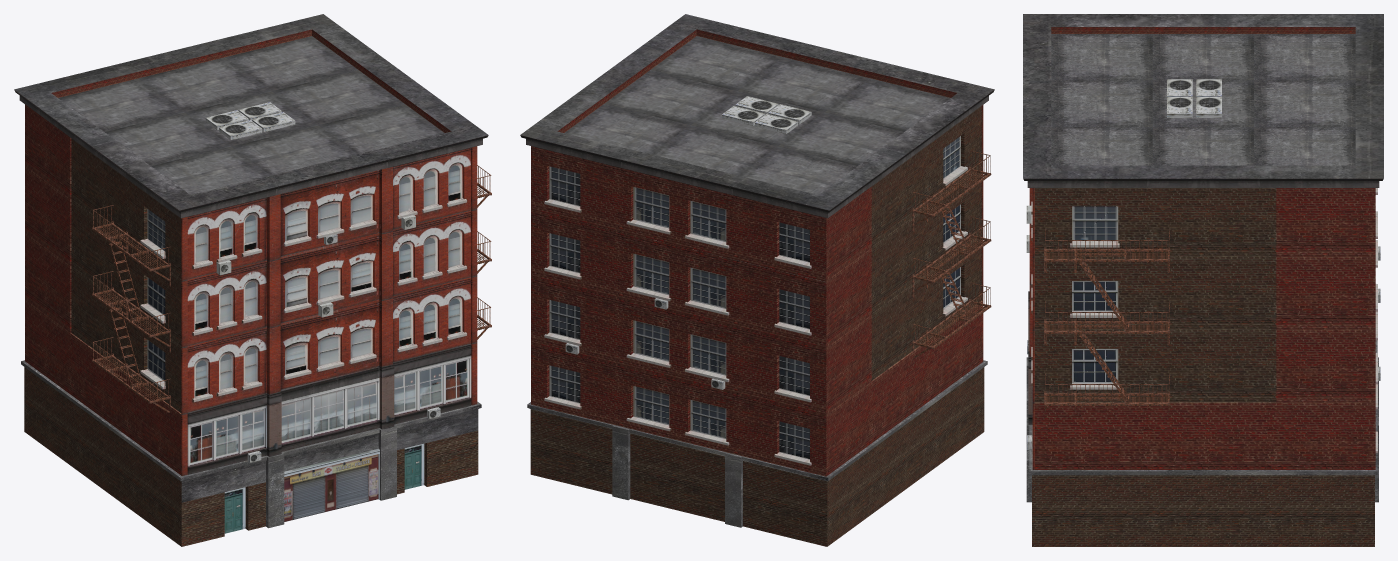
File: Building_A05.obj
The picture shows the model from 3 angles, left to right: view 1: azimuth 30°, elevation 25°; view 2: azimuth 150°, elevation 25°; view 3: azimuth 270°, elevation 25°; orthographic projection. The views are drawn at different scales.
Parts seen in each view (by area): view 1: K_Building_A05_00; view 2: K_Building_A05_00; view 3: K_Building_A05_00.
Boxes of the visible parts, <box> form: K_Building_A05_00: <box>14,14,491,546</box>; K_Building_A05_00: <box>520,14,994,546</box>; K_Building_A05_00: <box>1023,14,1383,546</box>.
Size of the model in its own units: 17.48 by 16.97 by 14.92.
